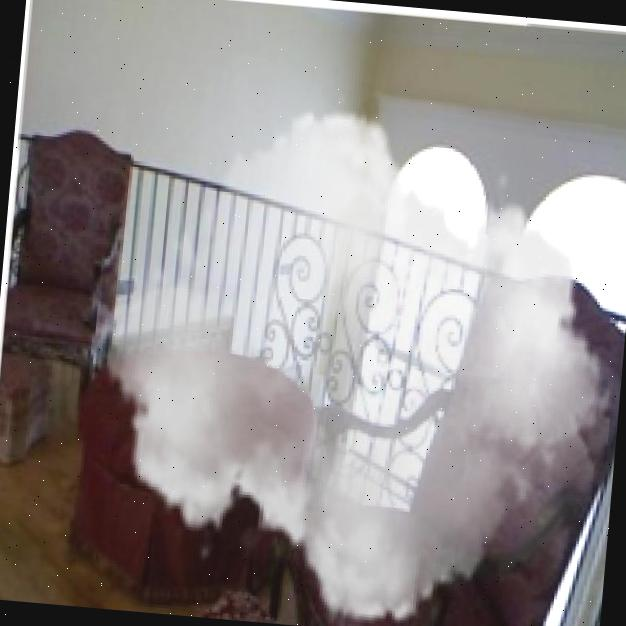smoke: (72, 71, 626, 626)
